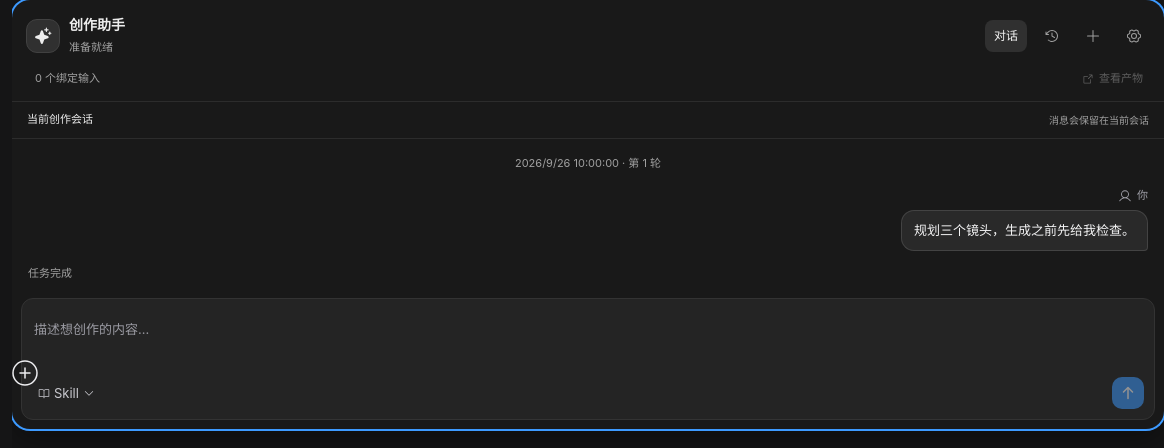
Test case: AgentChatCard › prefers a terminal Run list entry at the same timestamp and retains its history while releasing the send slot
The image size is (1164, 448).
Type "继续下一次创作" into the text box named "本次任务" at (588, 340), box [32, 309, 1144, 371]
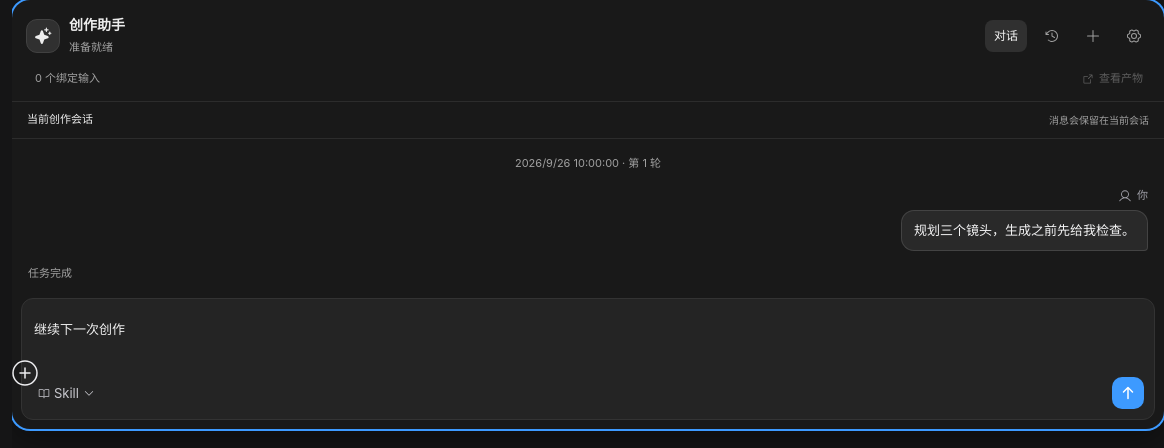
Expected: the element "你" shows "规划三个镜头，生成之前先给我检查。", [914, 222, 1135, 238]
Result: the button named "发送" is enabled at [1112, 377, 1144, 409]
